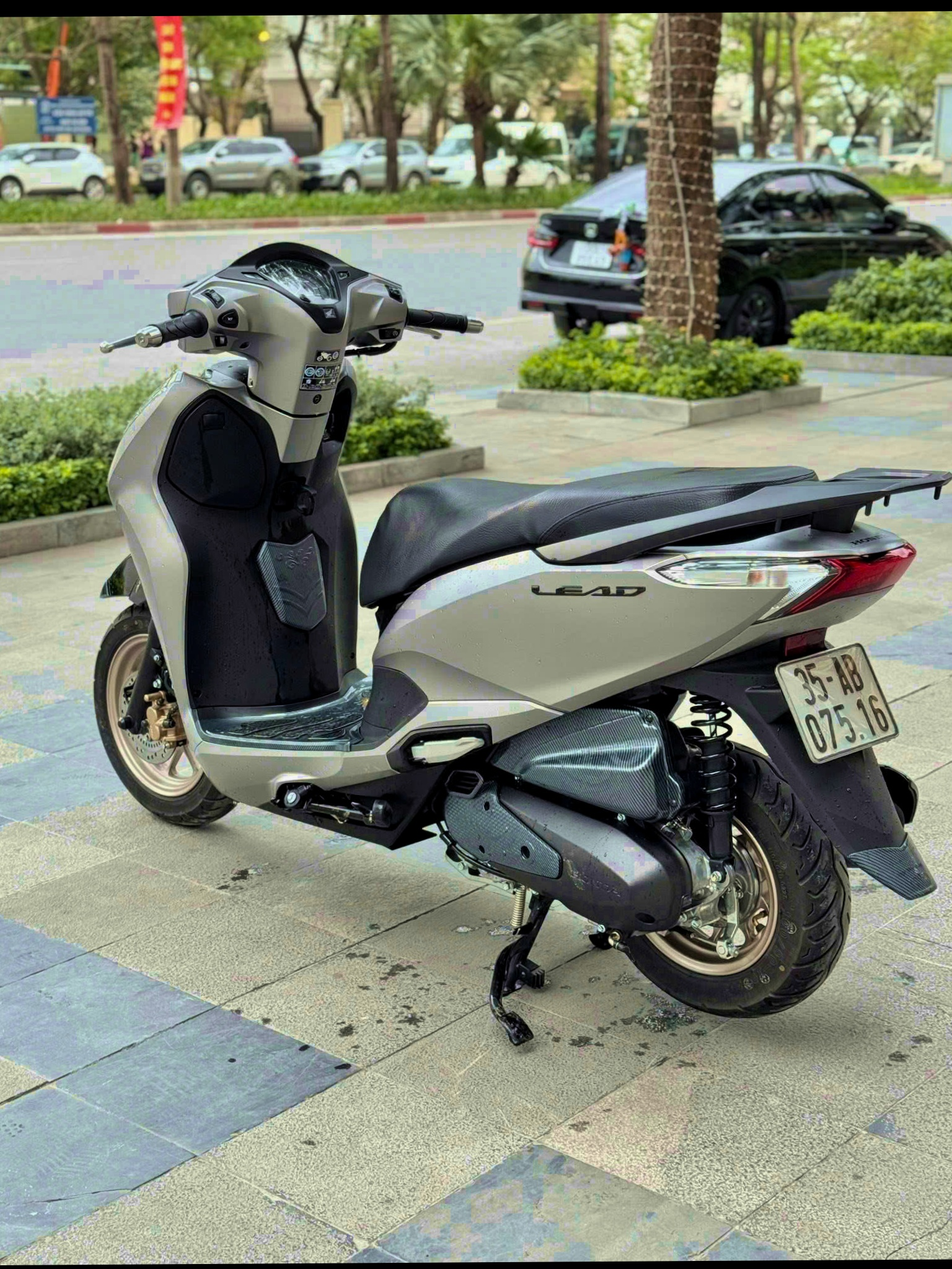Bien-so: (762, 631, 889, 768)
